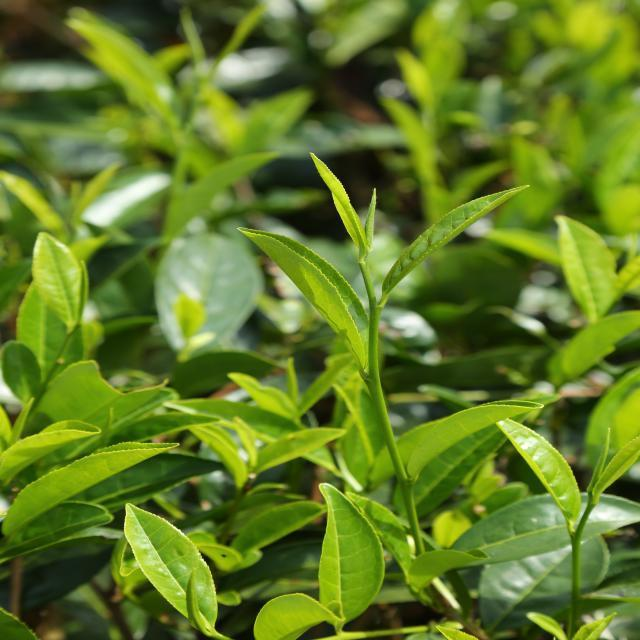Stem: (370, 306, 381, 318), (573, 535, 581, 549)
